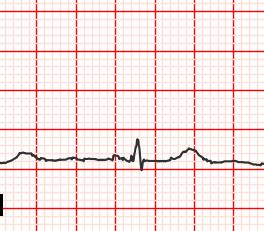LVH: (166, 142, 228, 166)
Poor R Progression: (127, 135, 145, 165)
